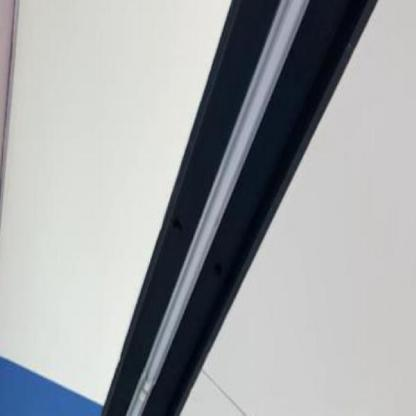light_off: (81, 0, 354, 415)
